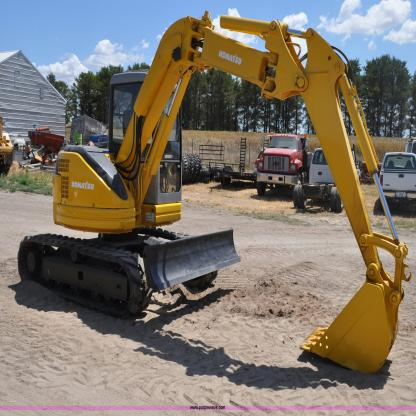excavator: (10, 15, 412, 378)
